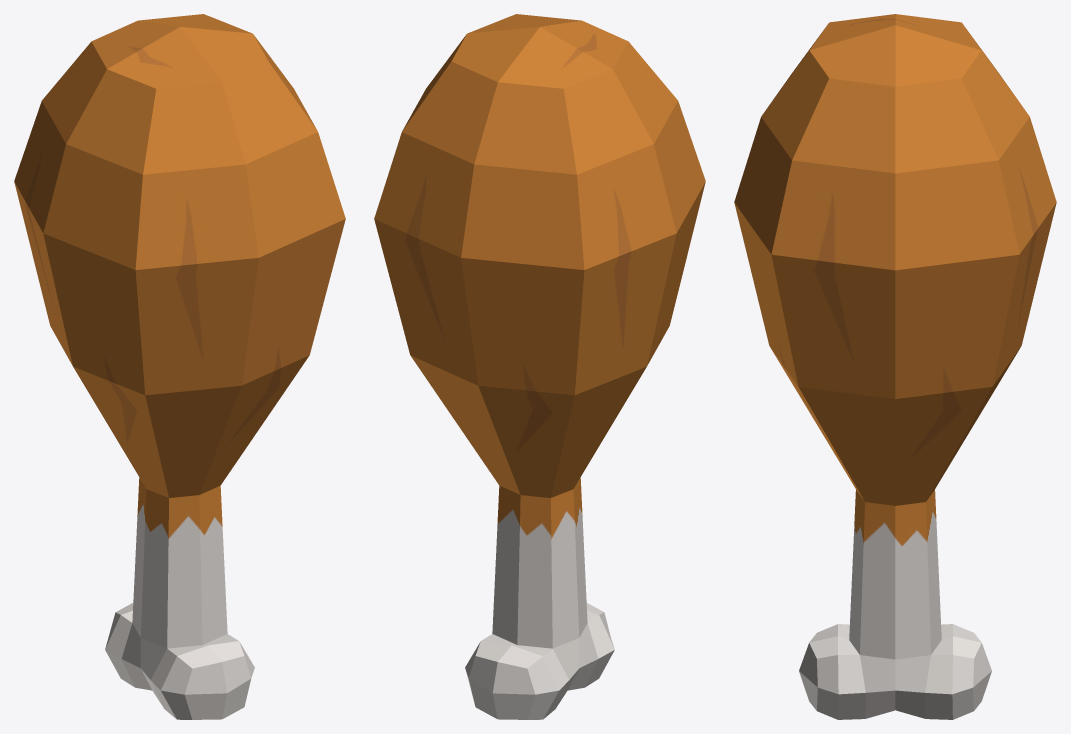
The model's file is Drumstick.fbx.
The picture shows the model from 3 angles, left to right: view 1: azimuth 30°, elevation 25°; view 2: azimuth 150°, elevation 25°; view 3: azimuth 270°, elevation 25°; orthographic projection. The views are drawn at different scales.
Visible parts, largest first — view 1: pCube21; view 2: pCube21; view 3: pCube21.
Boxes of the visible parts, bbox=[...] form: pCube21: bbox=[14, 14, 345, 719]; pCube21: bbox=[374, 14, 705, 719]; pCube21: bbox=[734, 14, 1056, 719].
Size of the model in its own units: 0.3905 by 0.9169 by 0.3905.
1 material, 1 textured.
